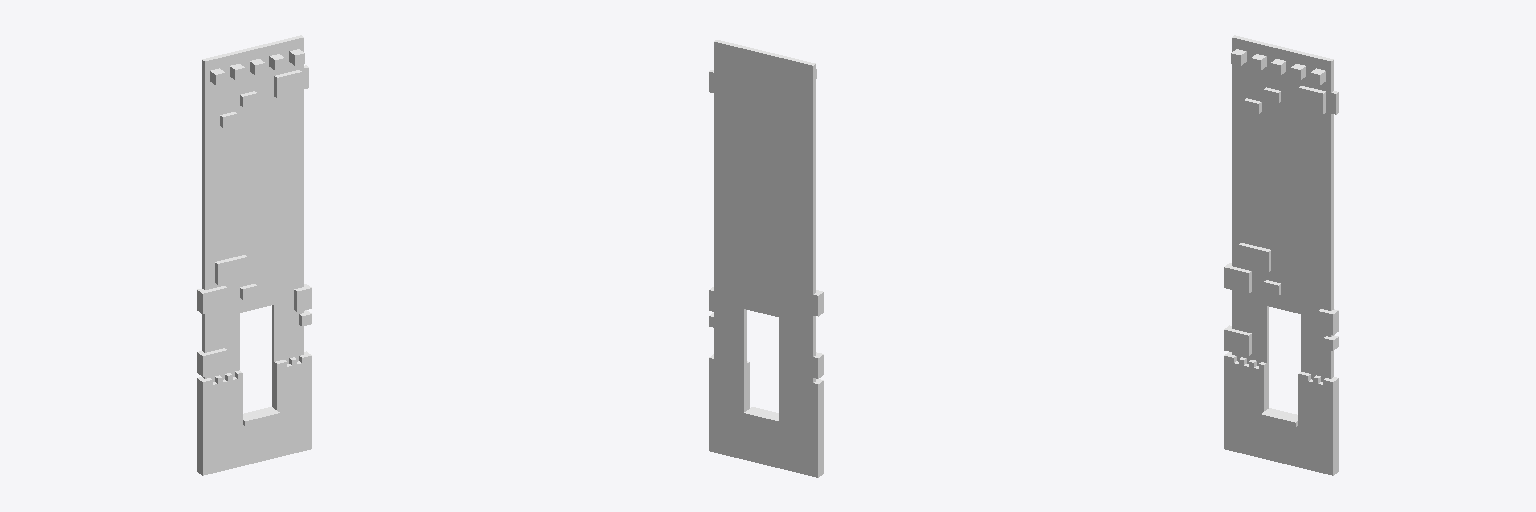
Rendered from TallBuilding03-3.obj.
The picture shows the model from 3 angles: view 1: azimuth 30°, elevation 25°; view 2: azimuth 150°, elevation 25°; view 3: azimuth 330°, elevation 25°; orthographic projection.
Parts seen in each view (by area): view 1: object 1; view 2: object 1; view 3: object 1.
Boxes of the visible parts, <box> form: object 1: <box>197,35,311,475</box>; object 1: <box>709,40,823,477</box>; object 1: <box>1224,35,1338,475</box>.
Bounding box in the file's own units: 2.2 × 7.9 × 0.3.